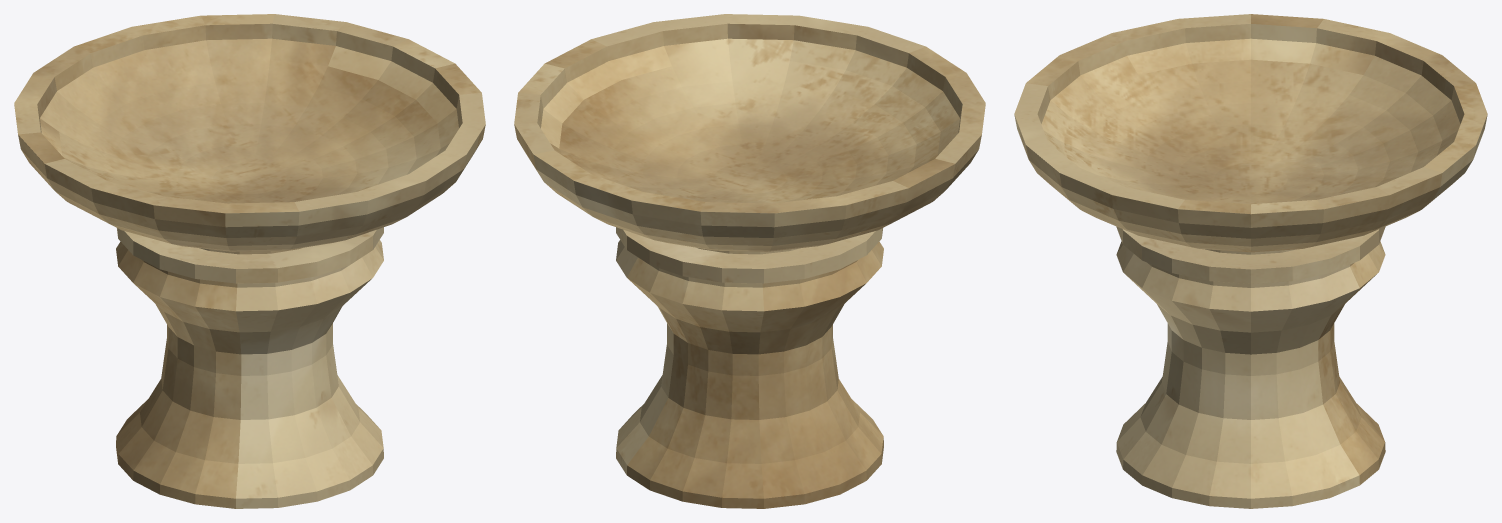
File: Fire_Basin.fbx
3 views of the same model, side by side, from view 1: azimuth 30°, elevation 25°; view 2: azimuth 150°, elevation 25°; view 3: azimuth 270°, elevation 25° (orthographic).
Visible parts, largest first — view 1: Firebasin; view 2: Firebasin; view 3: Firebasin.
Part boxes in pixels (bbox=[...]): Firebasin: bbox=[14, 14, 485, 508]; Firebasin: bbox=[514, 14, 985, 508]; Firebasin: bbox=[1014, 14, 1487, 508].
Bounding box in the file's own units: 3.52 × 2.77 × 3.52.
